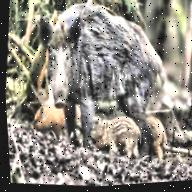boar: (21, 0, 191, 175)
